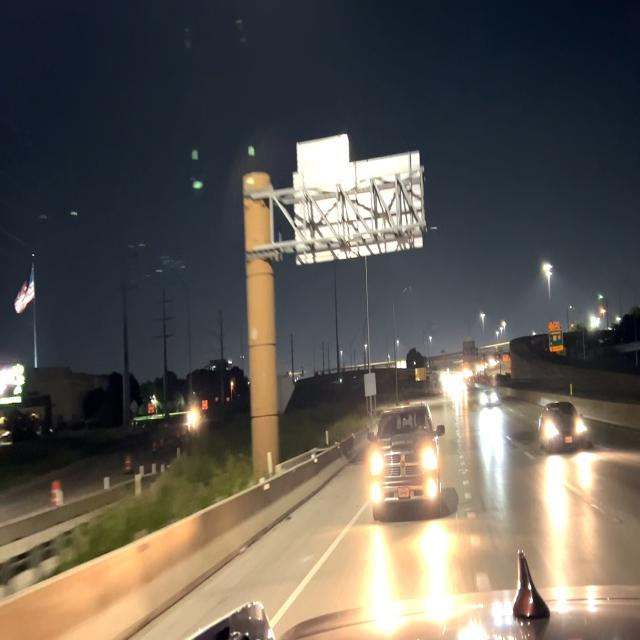back-of-sign: (299, 155, 422, 266), (298, 131, 349, 167), (297, 156, 299, 161)
